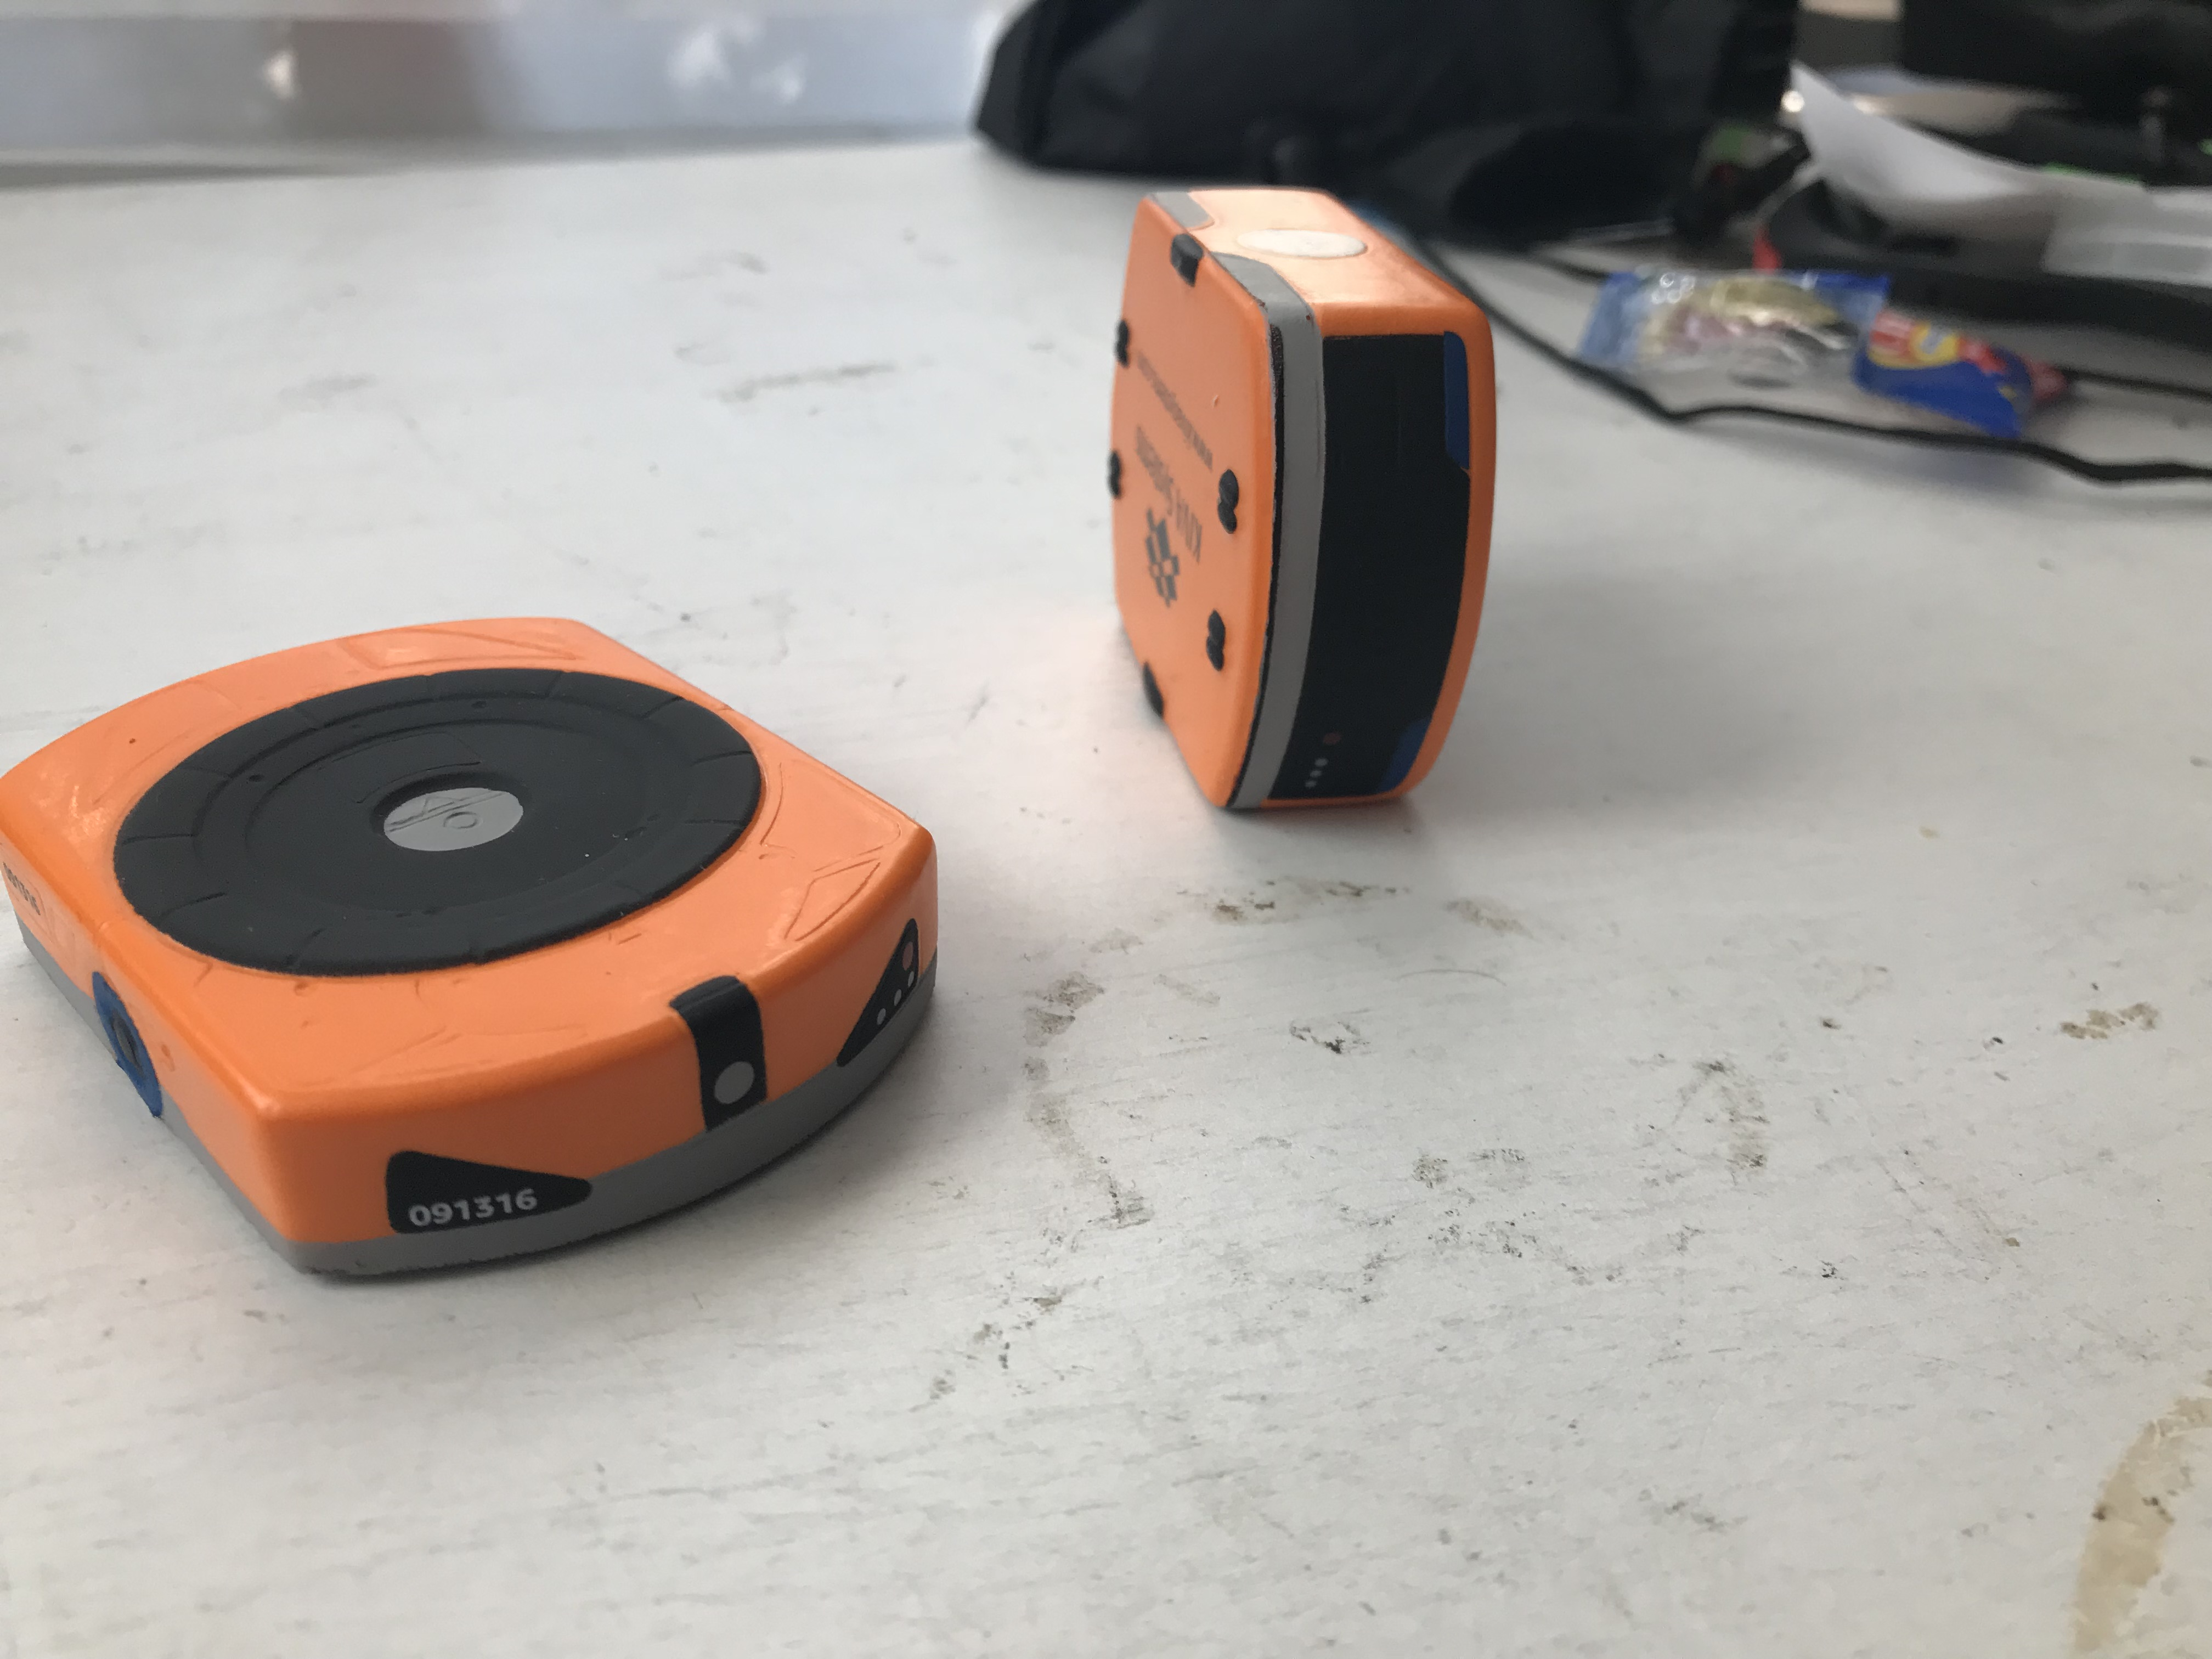amazon_bot: (14, 605, 972, 1309), (1101, 183, 1487, 854)
